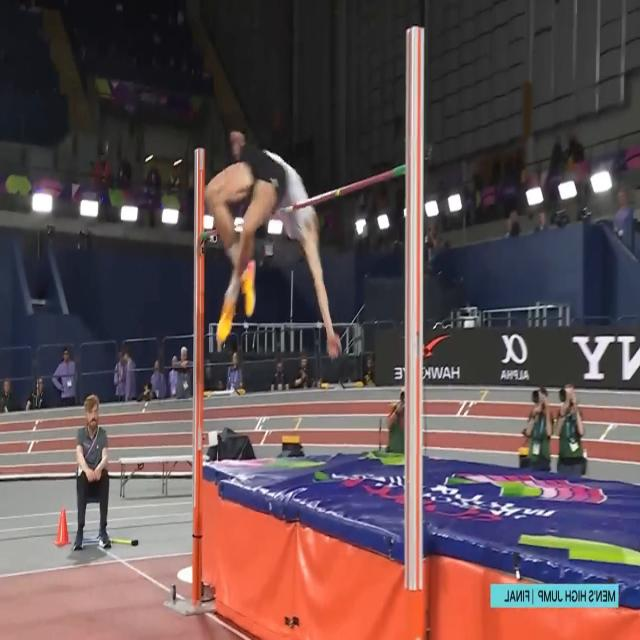jump: (205, 134, 342, 359)
